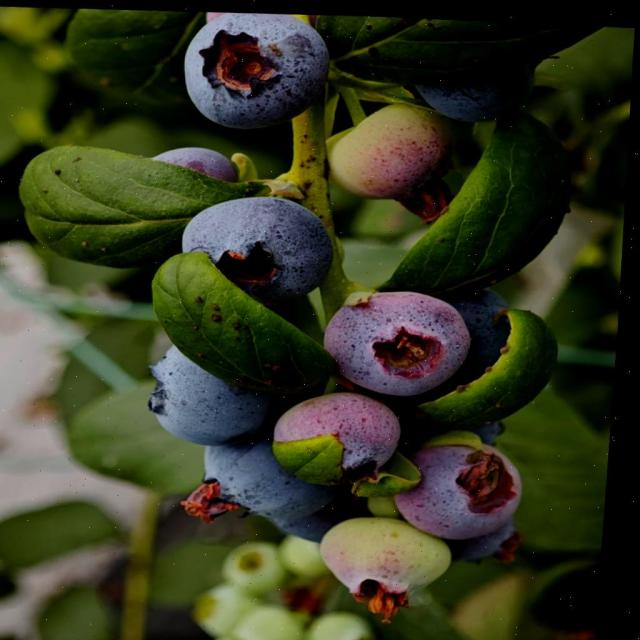RipeBlueBerry: (175, 6, 333, 134), (178, 186, 338, 303)
Semi-RipeBlueBerry: (322, 283, 477, 397)
UnripeBlueBerry: (322, 511, 462, 607)
